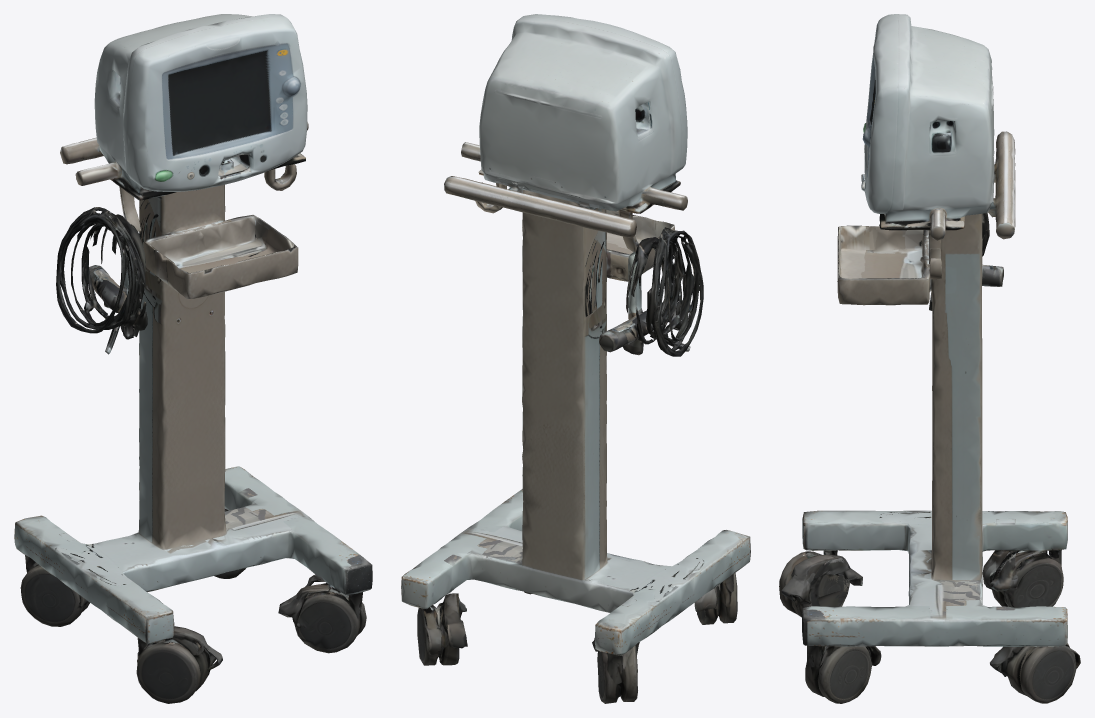
Rendered from S1_VitalMonitor.glb.
3 views of the same model, side by side, from view 1: azimuth 30°, elevation 25°; view 2: azimuth 150°, elevation 25°; view 3: azimuth 270°, elevation 25° (orthographic). The views are drawn at different scales.
Visible parts, largest first — view 1: texture_mapping; view 2: texture_mapping; view 3: texture_mapping.
Part boxes in pixels (x1,y1,x2,y2): texture_mapping: [14, 14, 372, 703]; texture_mapping: [401, 14, 750, 703]; texture_mapping: [779, 14, 1080, 703].
Bounding box in the file's own units: 0.3969 × 1 × 0.4463.
Materials: 1 (1 with a texture image).
